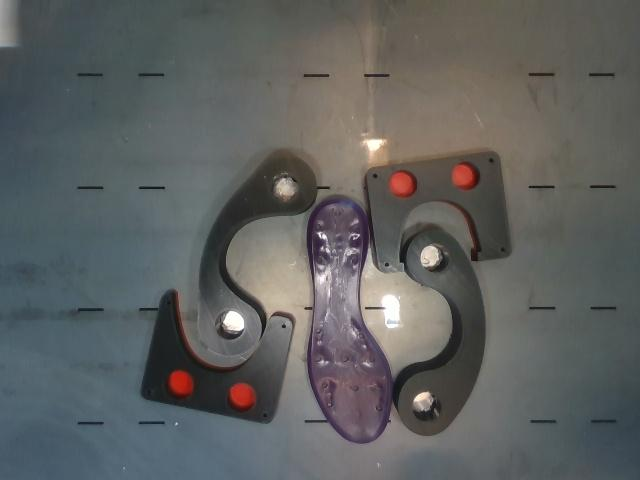shoes: (307, 195, 393, 444)
